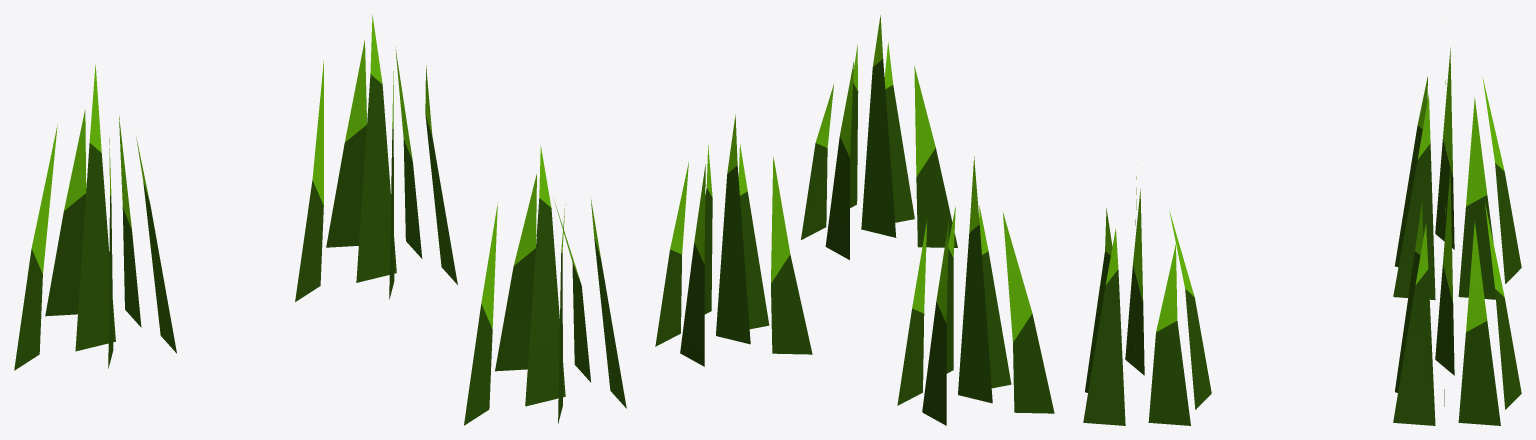
The model's file is Grass.fbx.
3 views of the same model, side by side, from view 1: azimuth 30°, elevation 25°; view 2: azimuth 150°, elevation 25°; view 3: azimuth 270°, elevation 25° (orthographic). The views are drawn at different scales.
Visible parts, largest first — view 1: pPlane7, pPlane8, pPlane9; view 2: pPlane7, pPlane8, pPlane9; view 3: pPlane8, pPlane9, pPlane7.
Boxes of the visible parts, box(x1,y1,x2,y2) form: pPlane7: box(14, 65, 176, 370); pPlane8: box(295, 14, 457, 301); pPlane9: box(464, 145, 626, 425); pPlane7: box(897, 156, 1054, 425); pPlane8: box(655, 114, 812, 366); pPlane9: box(801, 15, 957, 259); pPlane8: box(1393, 167, 1521, 425); pPlane9: box(1083, 164, 1211, 425); pPlane7: box(1393, 47, 1521, 299).
Size of the model in its own units: 1.19 by 0.7538 by 1.15.
